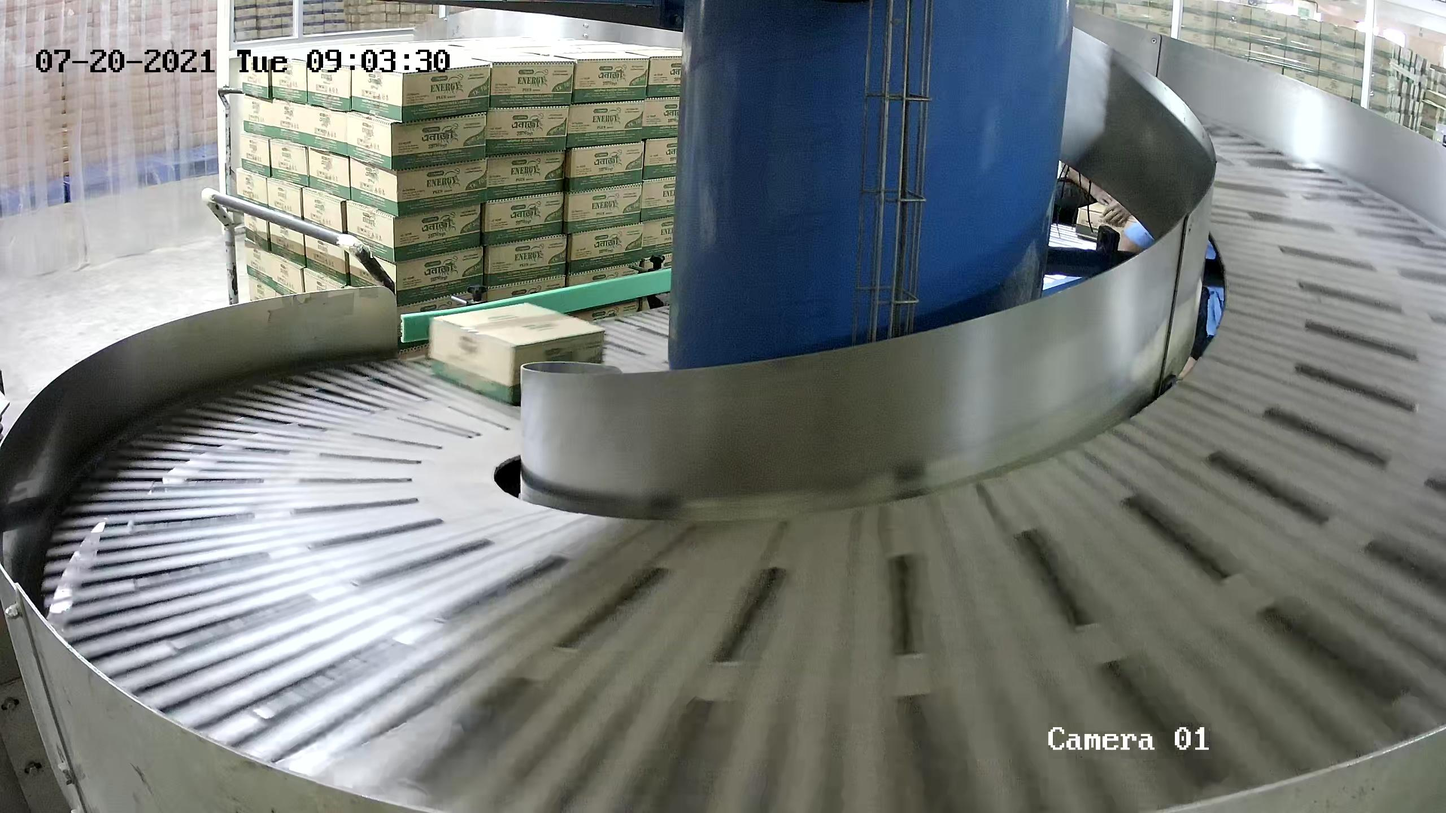Box: (426, 300, 607, 408)
